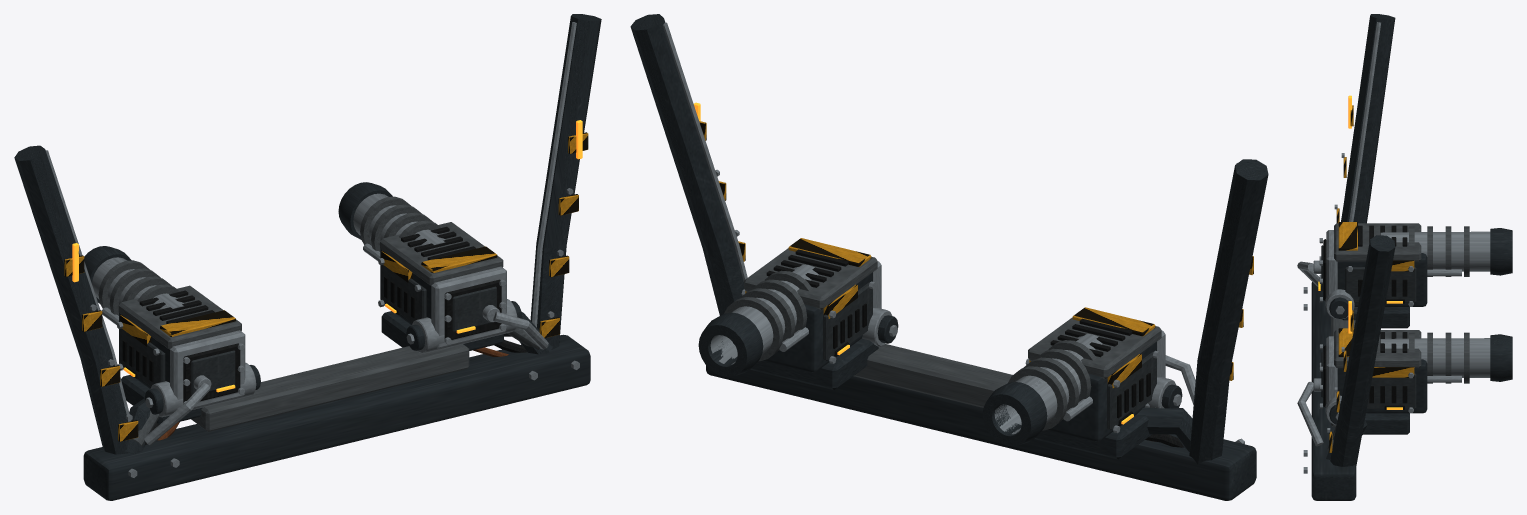
Rendered from industrial_cockpit.glb.
3 renders of one model, left to right at view 1: azimuth 30°, elevation 25°; view 2: azimuth 150°, elevation 25°; view 3: azimuth 270°, elevation 25°, orthographic. The views are drawn at different scales.
Visible parts, largest first — view 1: FrameMesh, RightHousingMesh, LeftHousingMesh, RightBarrelMesh, LeftMountMesh, LeftBarrelMesh, RightMountMesh; view 2: FrameMesh, LeftHousingMesh, RightHousingMesh, LeftBarrelMesh, RightBarrelMesh, LeftMountMesh, RightMountMesh; view 3: FrameMesh, LeftHousingMesh, RightHousingMesh, RightBarrelMesh, LeftBarrelMesh, RightMountMesh, LeftMountMesh.
Boxes of the visible parts, bbox=[...] form: FrameMesh: bbox=[14, 14, 601, 500]; RightHousingMesh: bbox=[378, 222, 506, 348]; LeftHousingMesh: bbox=[116, 285, 245, 409]; RightBarrelMesh: bbox=[338, 182, 450, 260]; LeftMountMesh: bbox=[121, 362, 260, 453]; LeftBarrelMesh: bbox=[84, 246, 189, 324]; RightMountMesh: bbox=[381, 299, 553, 354]; FrameMesh: bbox=[630, 14, 1268, 500]; LeftHousingMesh: bbox=[1025, 307, 1165, 441]; RightHousingMesh: bbox=[741, 238, 881, 372]; LeftBarrelMesh: bbox=[982, 333, 1102, 446]; RightBarrelMesh: bbox=[698, 264, 818, 376]; LeftMountMesh: bbox=[1034, 355, 1195, 459]; RightMountMesh: bbox=[750, 308, 898, 389]; FrameMesh: bbox=[1303, 14, 1395, 500]; LeftHousingMesh: bbox=[1313, 222, 1427, 306]; RightHousingMesh: bbox=[1313, 328, 1427, 413]; RightBarrelMesh: bbox=[1380, 332, 1512, 383]; LeftBarrelMesh: bbox=[1380, 226, 1512, 276]; RightMountMesh: bbox=[1297, 381, 1409, 459]; LeftMountMesh: bbox=[1297, 261, 1409, 328].
Size of the model in its own units: 2.76 by 1.51 by 1.06.
2 materials, 1 textured.
